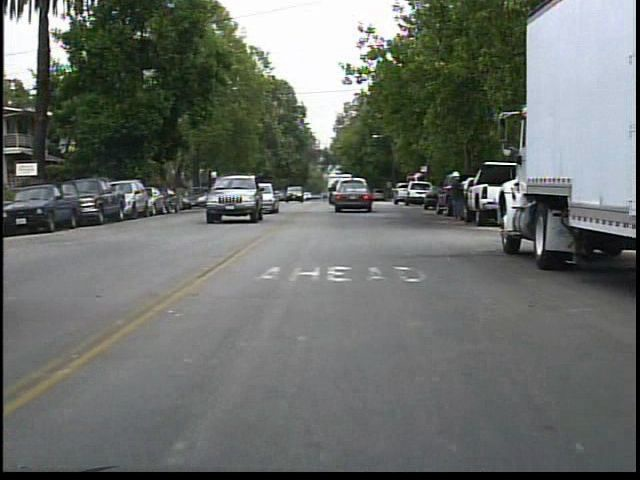person: (444, 168, 472, 226)
